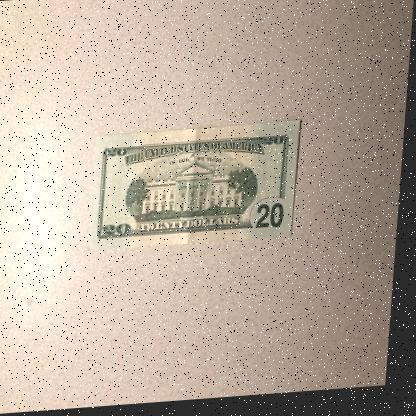twenty-back: (90, 125, 304, 255)
